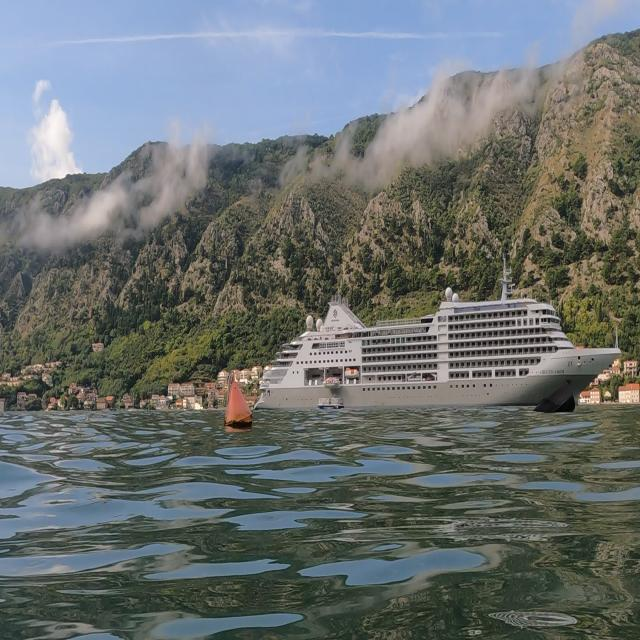boat: (252, 248, 622, 416)
buoy: (212, 365, 260, 439)
